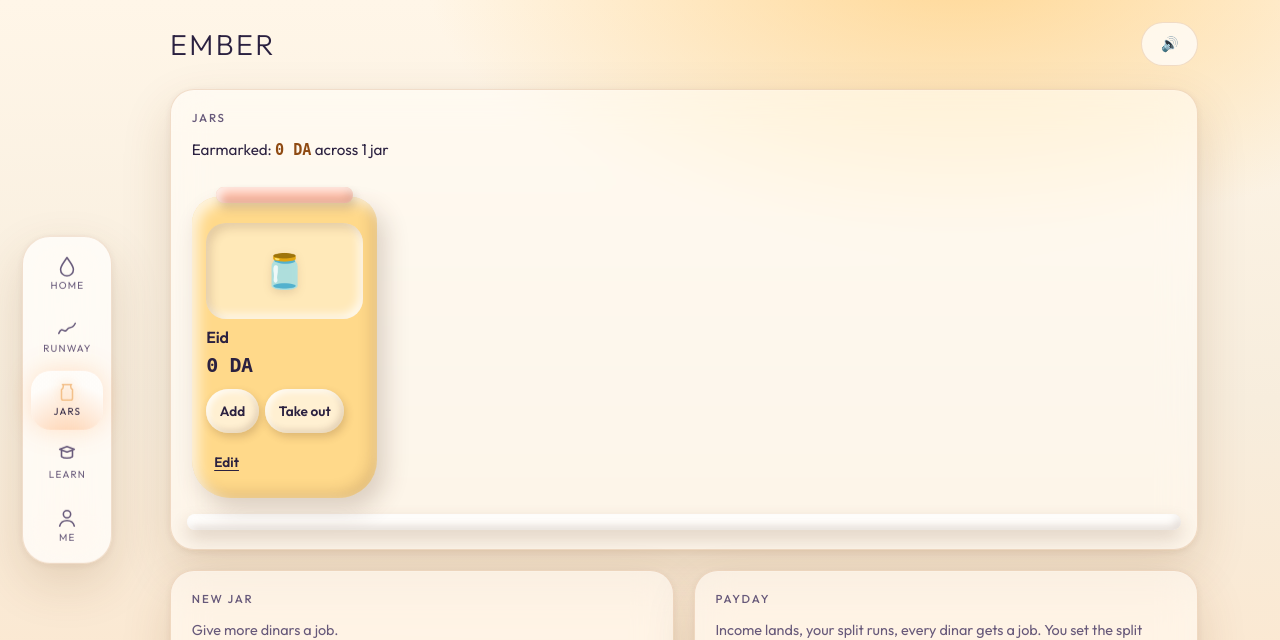
Test: Jars room — moving money › rejects a non-number without moving anything
Click the button "Add": x=232, y=411 [206, 389, 259, 433]
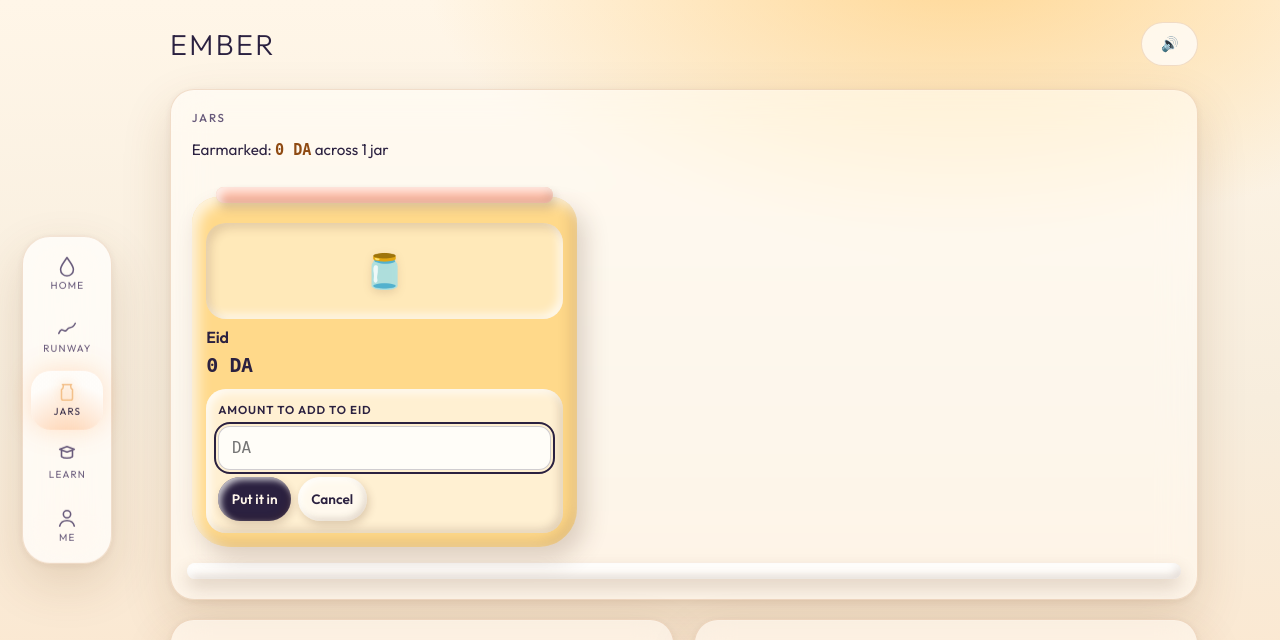
In the field labelled "Amount to add to Eid": x=384, y=448 [218, 426, 550, 470], type "lots"
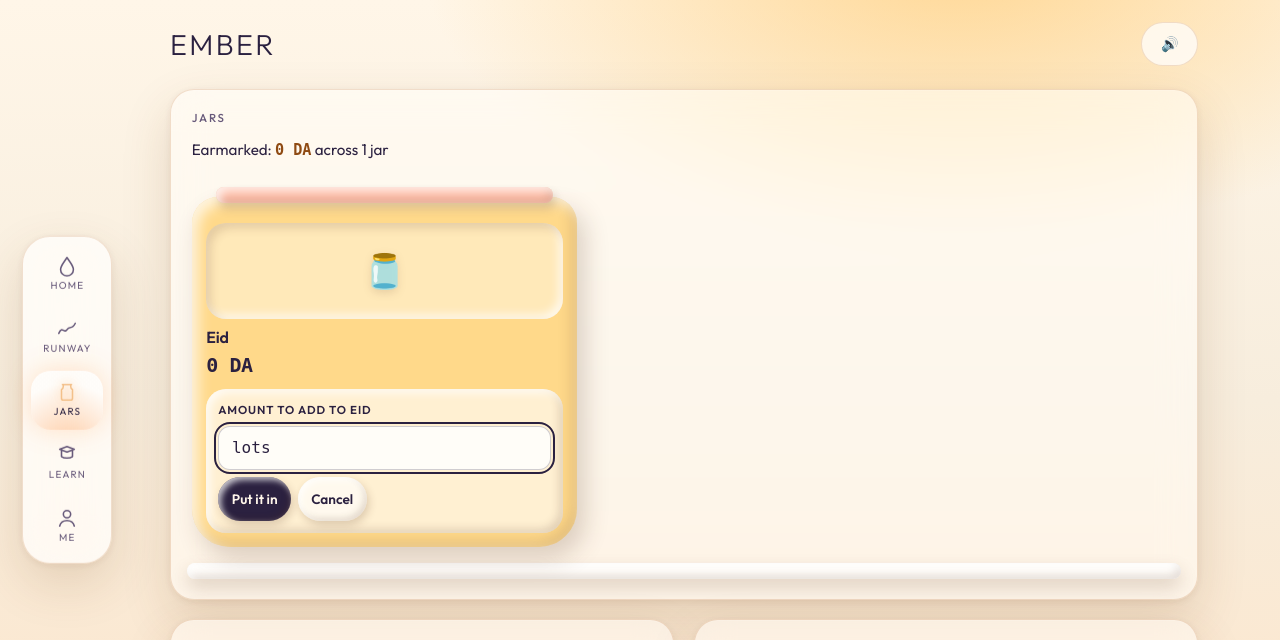
Click the button "Put it in": x=255, y=499 [218, 477, 291, 521]
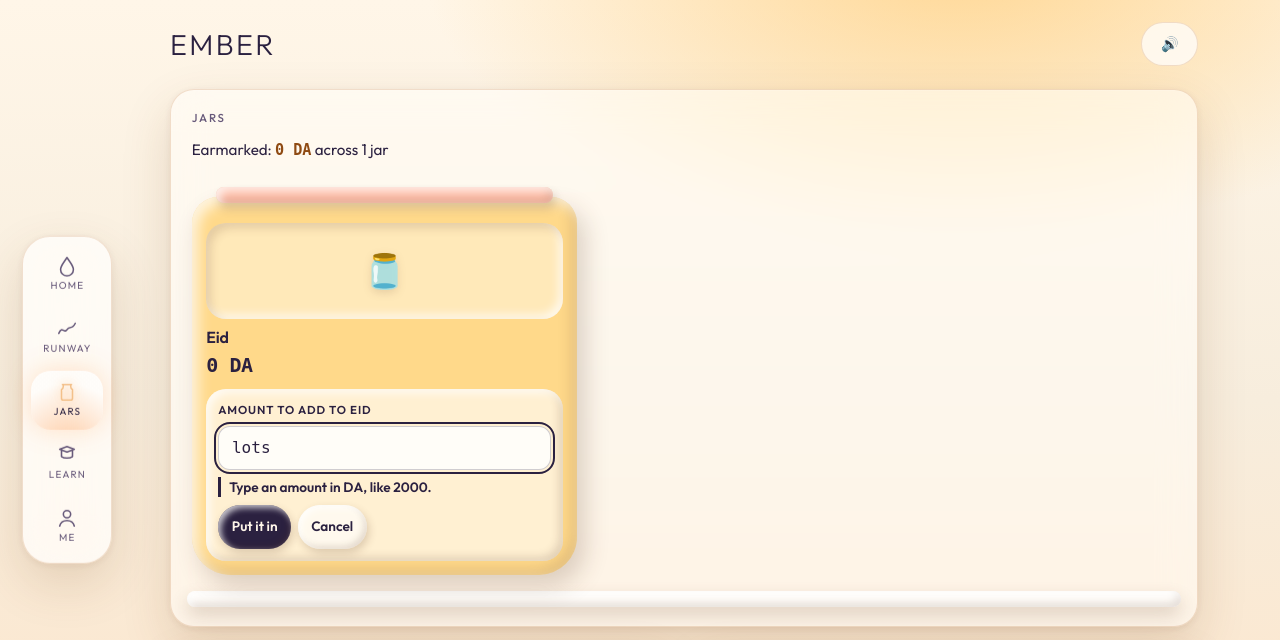
Expected: the text "Type an amount in DA, like 2000." is shown, [218, 477, 550, 497]
